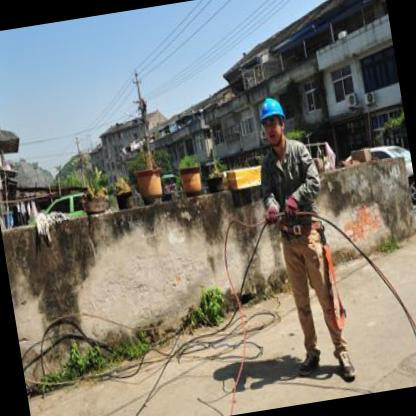helmet: (252, 89, 292, 151)
